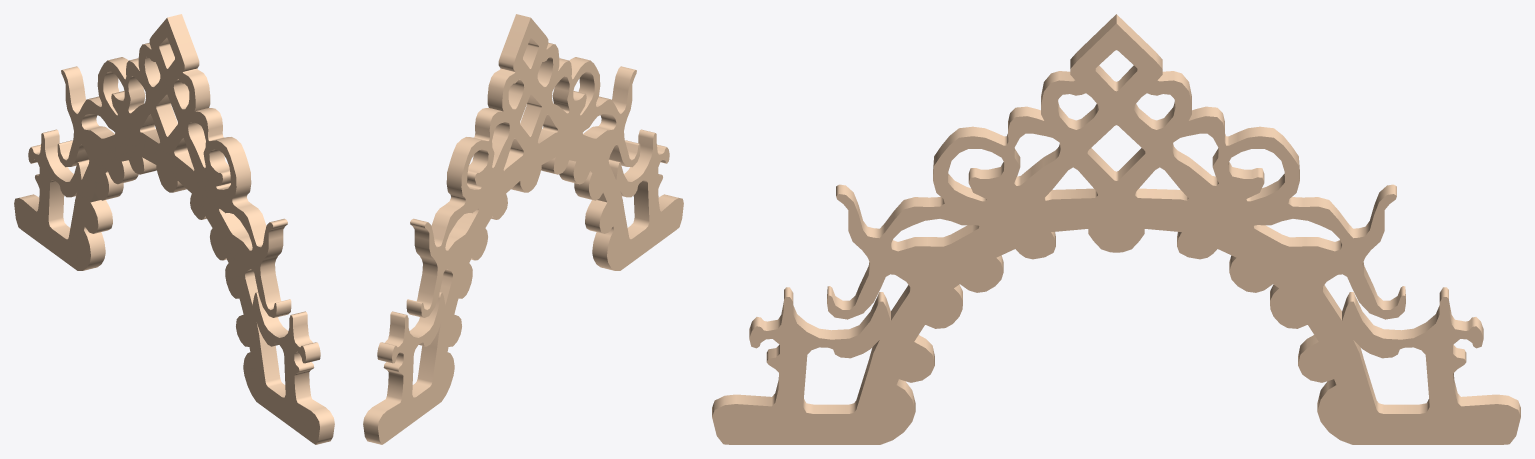
File: doortop.fbx
3 renders of one model, left to right at view 1: azimuth 30°, elevation 25°; view 2: azimuth 150°, elevation 25°; view 3: azimuth 270°, elevation 25°, orthographic. The views are drawn at different scales.
Visible parts, largest first — view 1: piece22.001; view 2: piece22.001; view 3: piece22.001.
Part boxes in pixels (x1,y1,x2,y2): piece22.001: [14, 14, 334, 444]; piece22.001: [363, 14, 683, 444]; piece22.001: [712, 14, 1520, 444].
Bounding box in the file's own units: 2.83 × 58.56 × 102.
